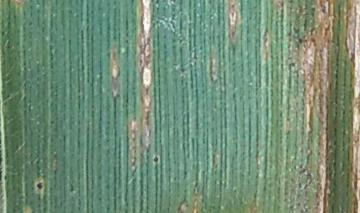tarspot: (34, 180, 46, 192), (151, 152, 161, 165), (296, 34, 304, 47)
